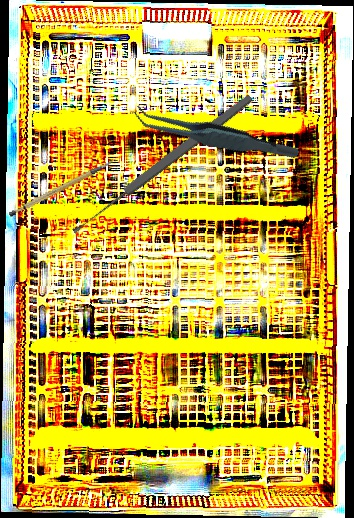Scalpel Handle: (3, 159, 121, 219)
Surgical Spoon: (69, 92, 255, 237)
Tissue Forceps: (130, 76, 301, 193)
